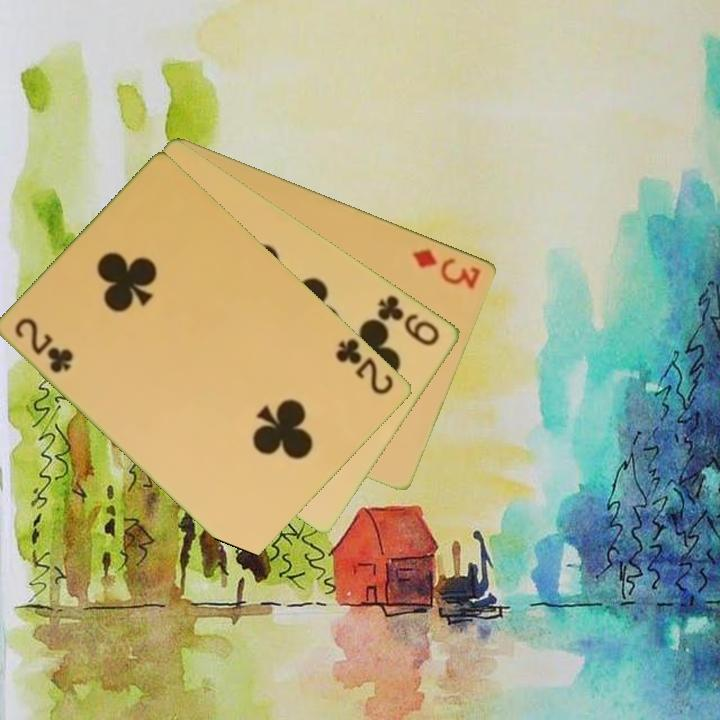2c: (332, 334, 397, 398), (12, 314, 77, 377)
3d: (409, 245, 484, 292)
9c: (374, 291, 443, 349)
